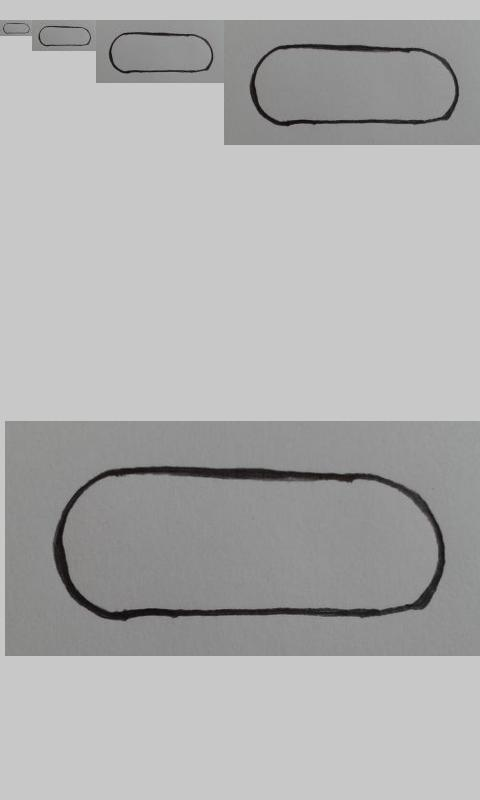chip: (49, 465, 447, 622), (250, 43, 460, 128), (108, 31, 214, 74), (38, 25, 92, 47), (2, 22, 31, 35)
